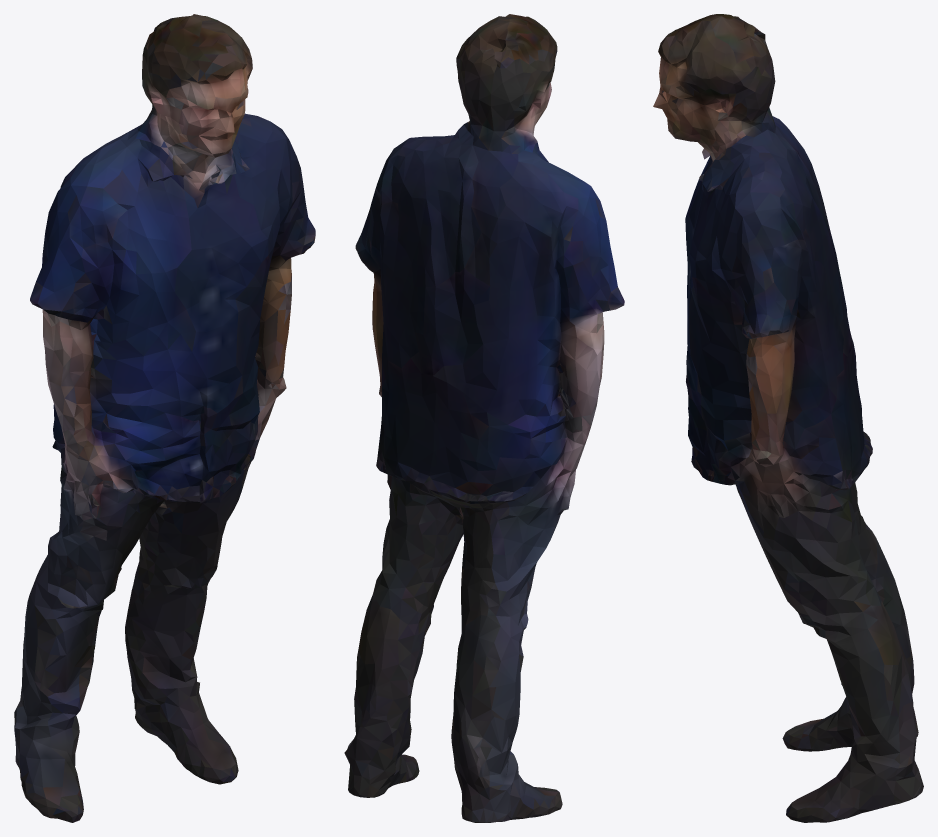
The picture shows the model from 3 angles, left to right: view 1: azimuth 30°, elevation 25°; view 2: azimuth 150°, elevation 25°; view 3: azimuth 270°, elevation 25°; orthographic projection. The views are drawn at different scales.
Parts seen in each view (by area): view 1: m.obj; view 2: m.obj; view 3: m.obj.
Boxes of the visible parts, box(x1,y1,x2,y2) form: m.obj: box(14, 14, 315, 822); m.obj: box(344, 14, 624, 822); m.obj: box(653, 14, 923, 822).
Size of the model in its own units: 0.6252 by 1.69 by 0.5399.
Materials: 1 (1 with a texture image).
